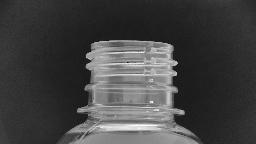No Cap: (70, 35, 190, 119)
